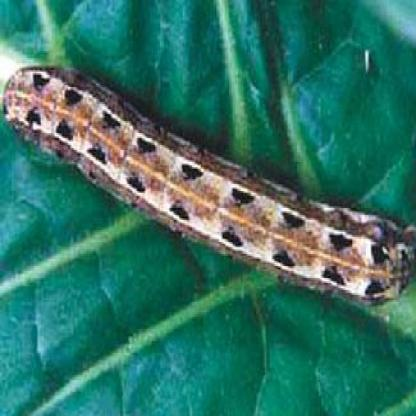armyworm: (3, 46, 416, 320)
